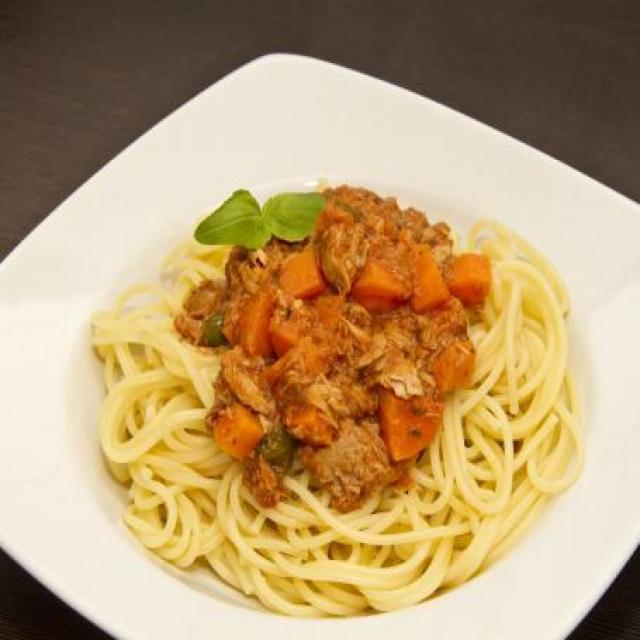Pasta al ragu: (98, 131, 574, 607)
